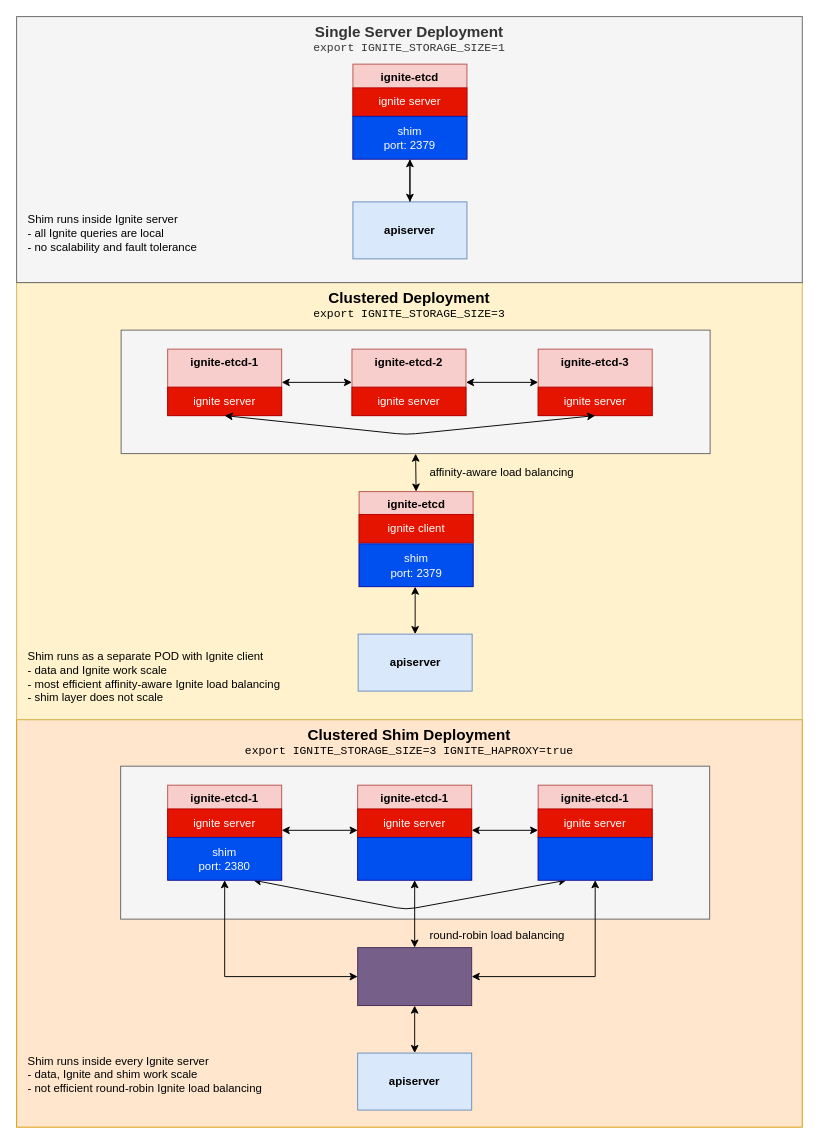
This 819x1144 diagram has some shape labels left out. Each missing label, with the centre of its shape:
"haproxy port: 2379" goes at (414,976).
"shim port: 2381" goes at (414,858).
"shim port: 2382" goes at (594,858).
